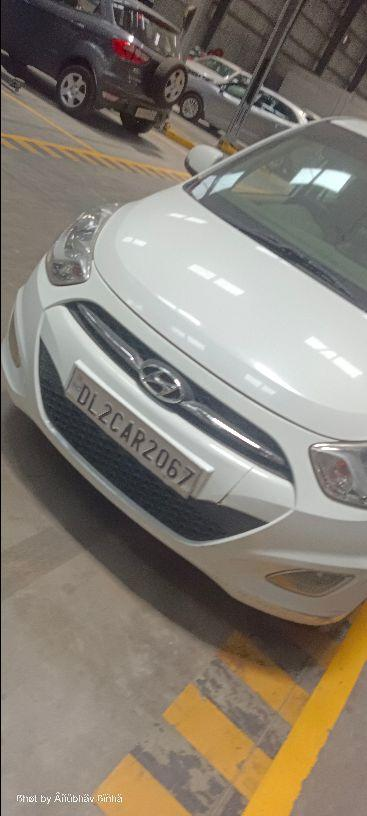license_plate: (62, 361, 208, 501)
